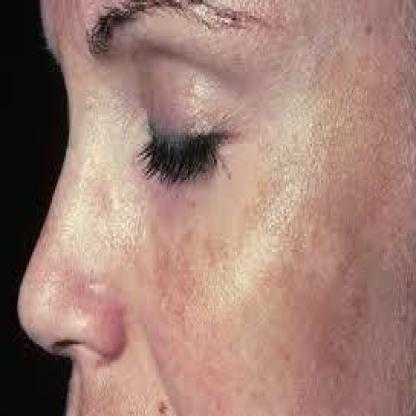darkspot: (150, 380, 174, 414)
wrinkle: (284, 88, 414, 227)
